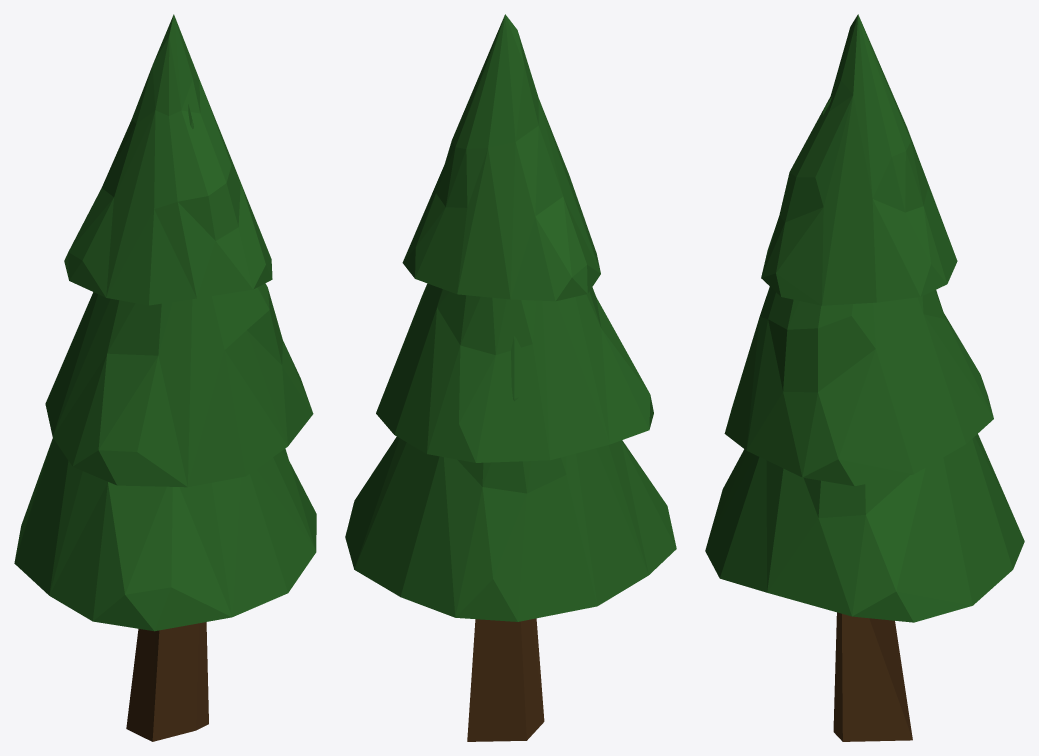
Rendered from PineTree.fbx.
3 renders of one model, left to right at view 1: azimuth 30°, elevation 25°; view 2: azimuth 150°, elevation 25°; view 3: azimuth 270°, elevation 25°, orthographic.
Visible parts, largest first — view 1: PineTree; view 2: PineTree; view 3: PineTree.
Part boxes in pixels (x1,y1,x2,y2): PineTree: (14,14,316,741); PineTree: (345,14,676,741); PineTree: (705,14,1024,741).
Size of the model in its own units: 585 by 1462 by 587.
